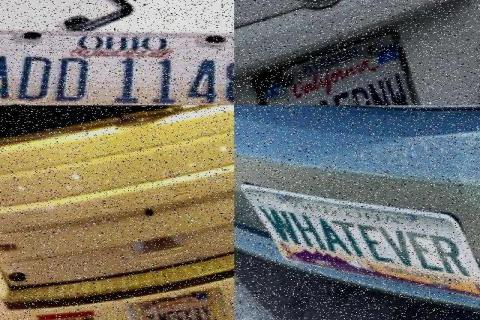LicensePlate: (239, 183, 478, 295), (0, 12, 234, 105), (254, 27, 423, 104), (142, 289, 224, 320)
